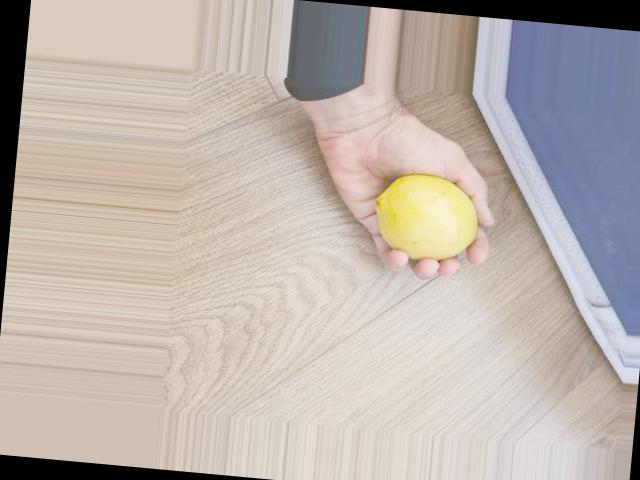lemon: (368, 171, 481, 267)
